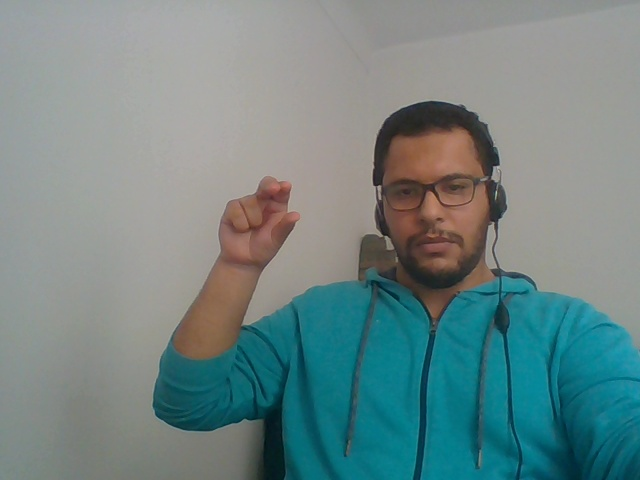no: (174, 153, 344, 321)
